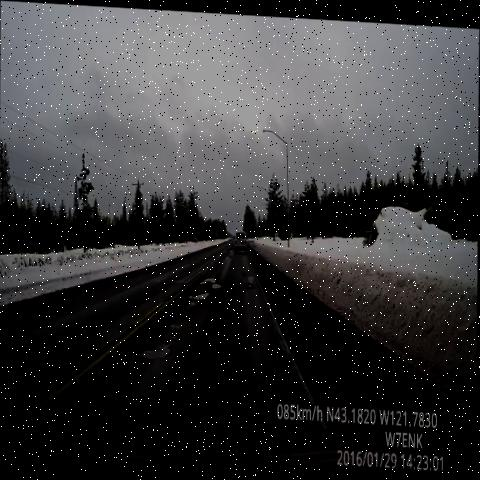pothole: (134, 327, 177, 367), (168, 290, 199, 333), (199, 265, 225, 291), (190, 281, 215, 308), (239, 262, 257, 297), (218, 245, 236, 264)
